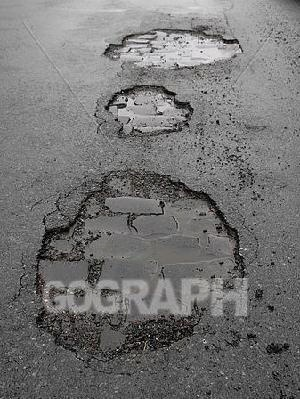pothole: (27, 162, 246, 360), (99, 27, 242, 63), (103, 81, 195, 136)
